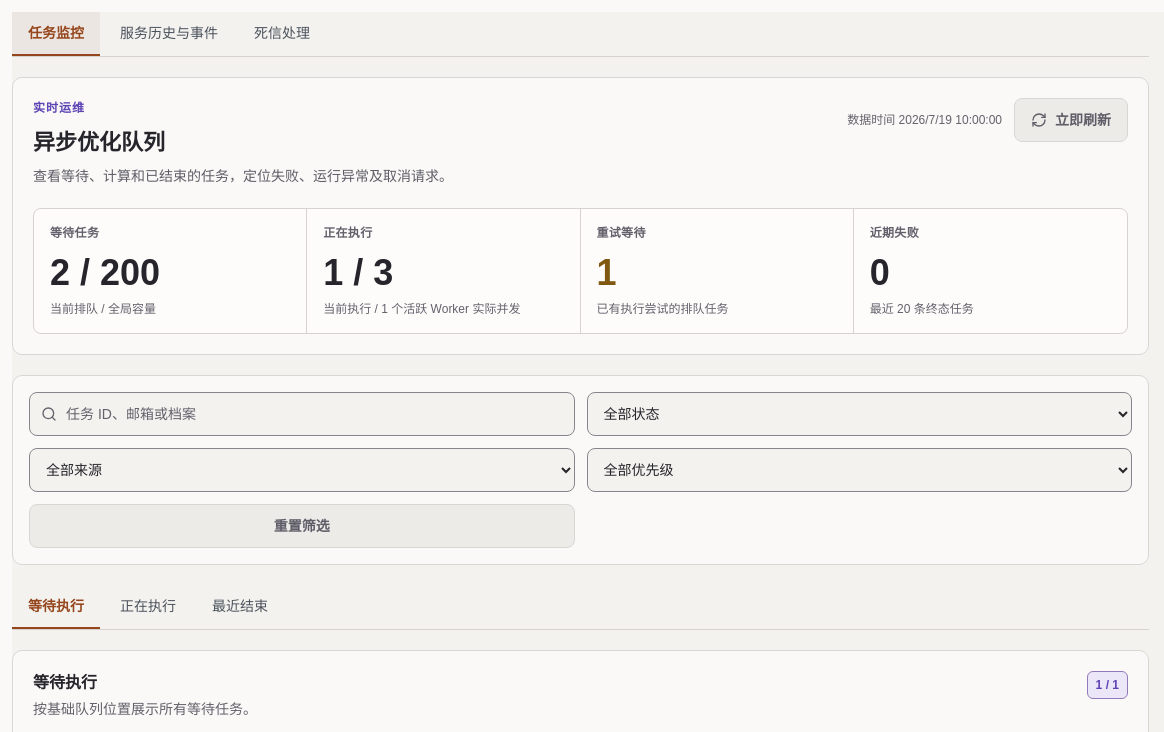
Test: QueueMonitorPanel › retains the last successful snapshot on refresh failure and retries explicitly without resetting filters
This screenshot has width=1164, height=732.
Type "queued-job" into the field with placeholder "任务 ID、邮箱或档案".
click(302, 414); type("queued-job")  # box left=29, top=392, right=574, bottom=436
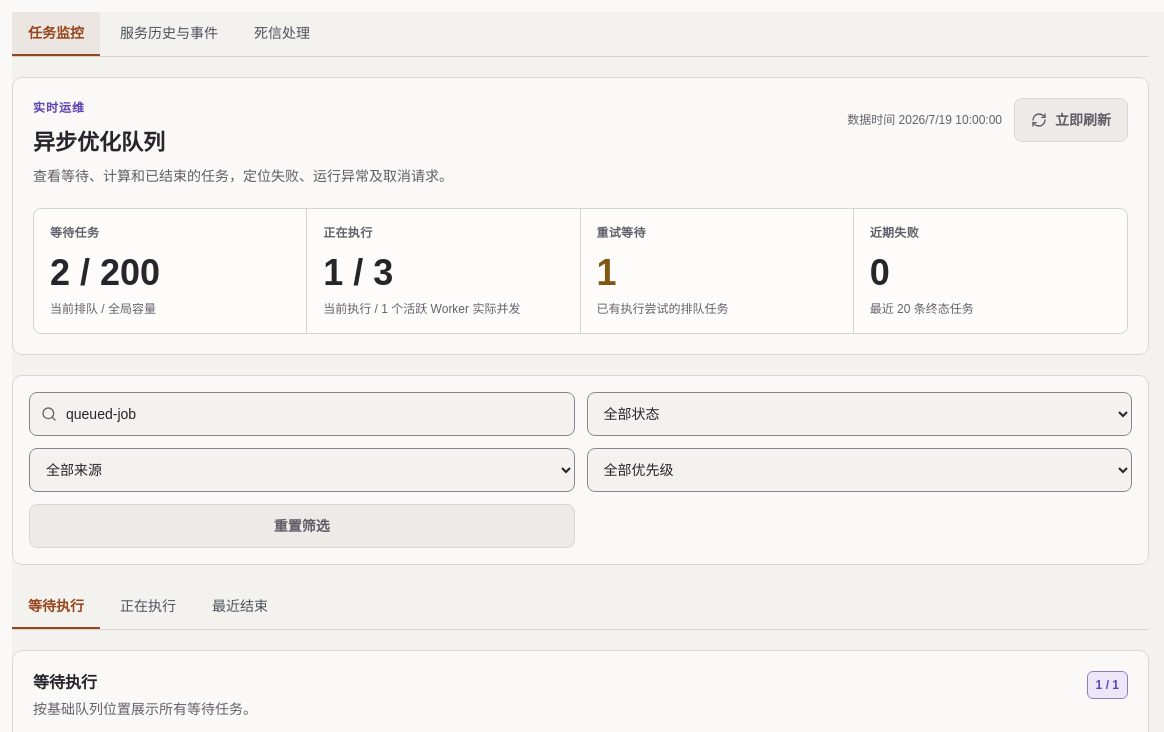
Click the button "立即刷新".
click(1071, 120)  # box left=1014, top=98, right=1128, bottom=142
Wait 1 ms
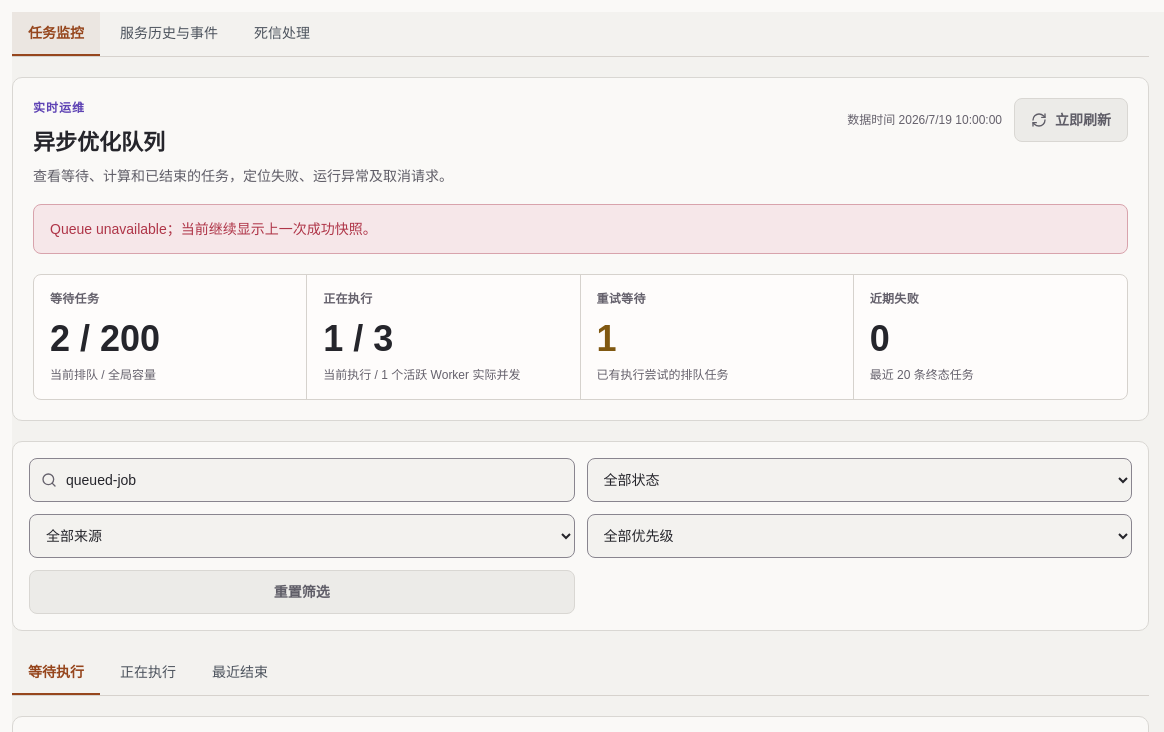
Check: the text "2 / 200" is shown, box left=50, top=318, right=160, bottom=359
Check: the message reads "Queue unavailable；当前继续显示上一次成功快照。", box left=33, top=204, right=1128, bottom=254
Click the button "立即刷新".
click(1071, 120)  # box left=1014, top=98, right=1128, bottom=142
Wait 1 ms
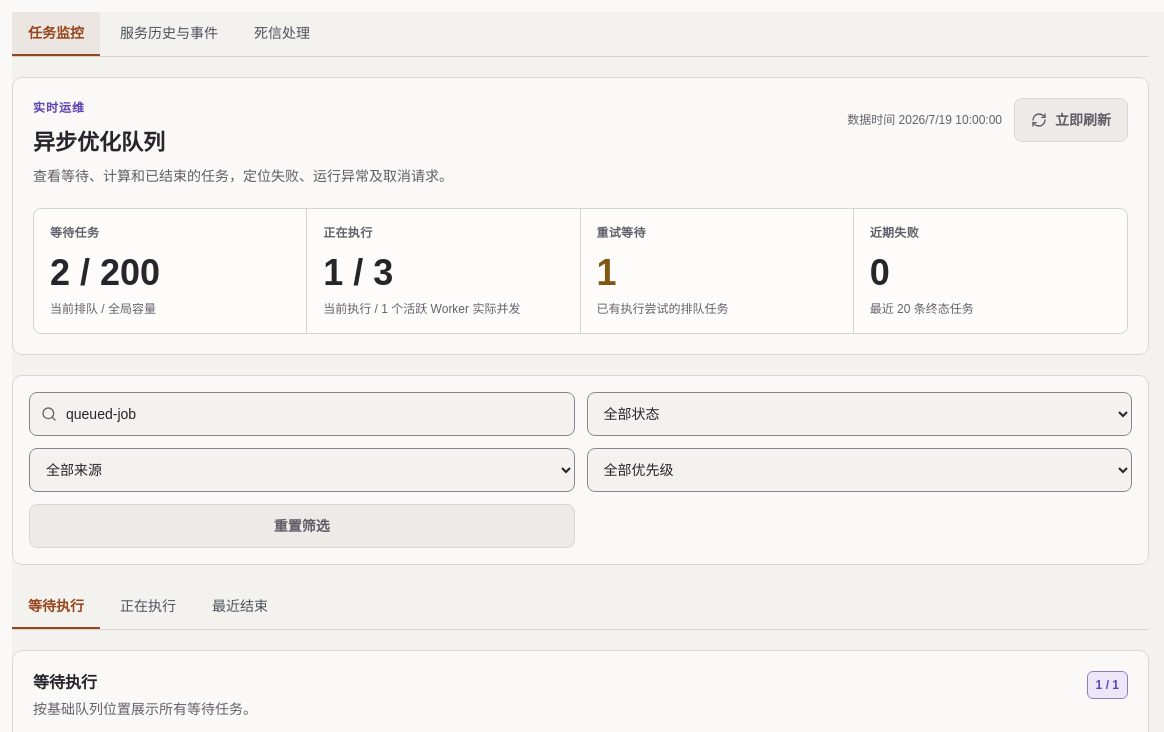
Check: the message "Queue unavailable；当前继续显示上一次成功快照。" is gone
